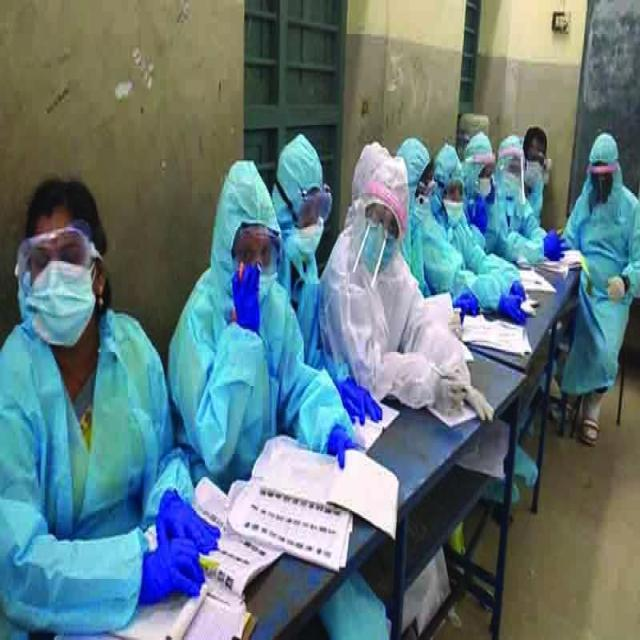Coverall: (7, 130, 170, 626), (190, 126, 320, 498), (338, 88, 421, 409), (560, 127, 639, 408), (261, 141, 336, 385), (382, 99, 449, 308), (429, 136, 474, 307), (496, 124, 540, 295), (460, 115, 498, 262), (516, 123, 550, 233)
Gloves: (122, 477, 221, 603), (322, 369, 387, 470), (210, 261, 276, 338), (494, 270, 537, 332), (446, 278, 483, 322), (542, 223, 573, 275)
Goggles: (11, 227, 95, 282), (223, 226, 294, 275), (346, 186, 405, 243), (283, 172, 340, 226), (432, 178, 471, 202)
Mask: (19, 260, 102, 358), (349, 214, 405, 270), (496, 165, 527, 203), (441, 192, 466, 229)
